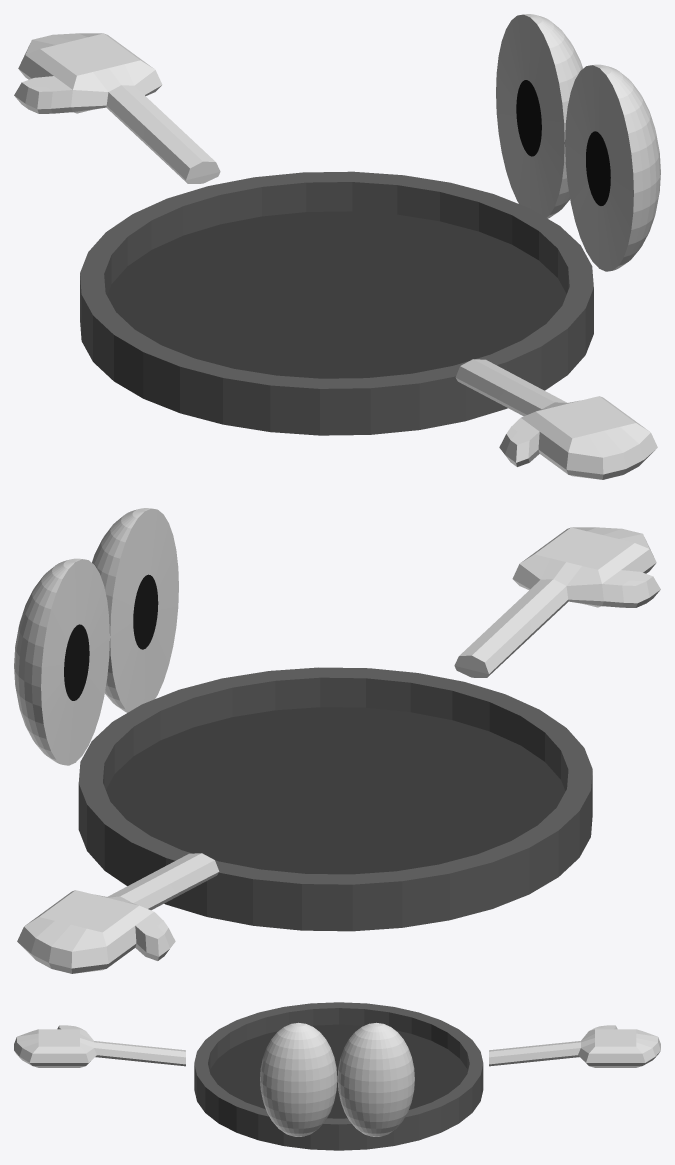
File: Player_Hole.obj
3 views of the same model, one above another, from view 1: azimuth 30°, elevation 25°; view 2: azimuth 150°, elevation 25°; view 3: azimuth 270°, elevation 25° (orthographic). The views are drawn at different scales.
Visible parts, largest first — view 1: Player; view 2: Player; view 3: Player.
Boxes of the visible parts, x1=… form: Player: x1=14, y1=14, x2=660, y2=479; Player: x1=14, y1=508, x2=660, y2=973; Player: x1=14, y1=1002, x2=660, y2=1150.
Size of the model in its own units: 2.25 by 0.9842 by 4.47.
1 material, 1 textured.
